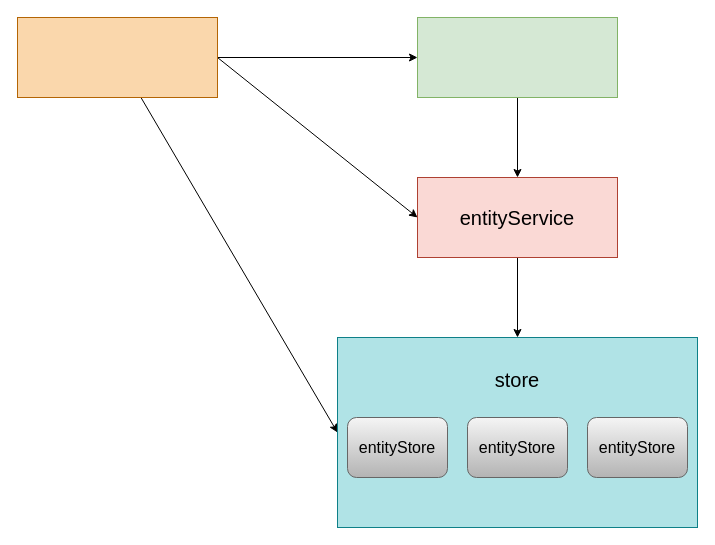
The diagram is 715 pixels wide and 545 high, and some of its shapes have lost their labels. Each missing label, with the box of its shape:
entityHandler: (416, 16, 618, 98)
model: (16, 16, 218, 98)
